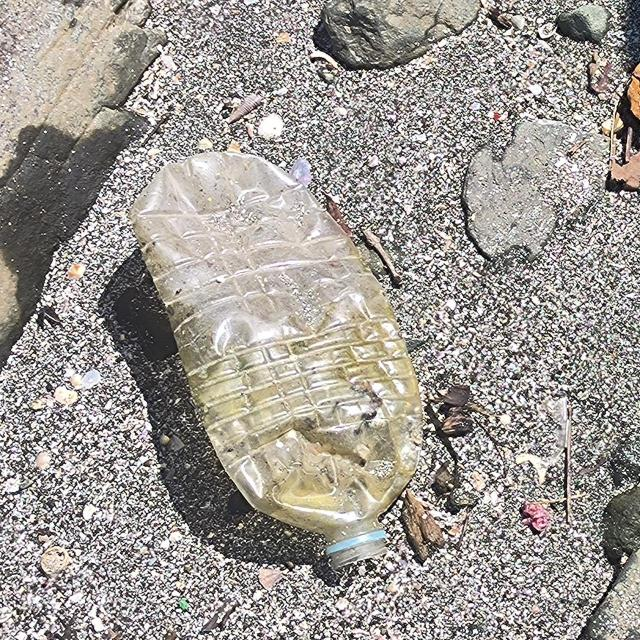plastic_waste: (129, 151, 426, 573)
